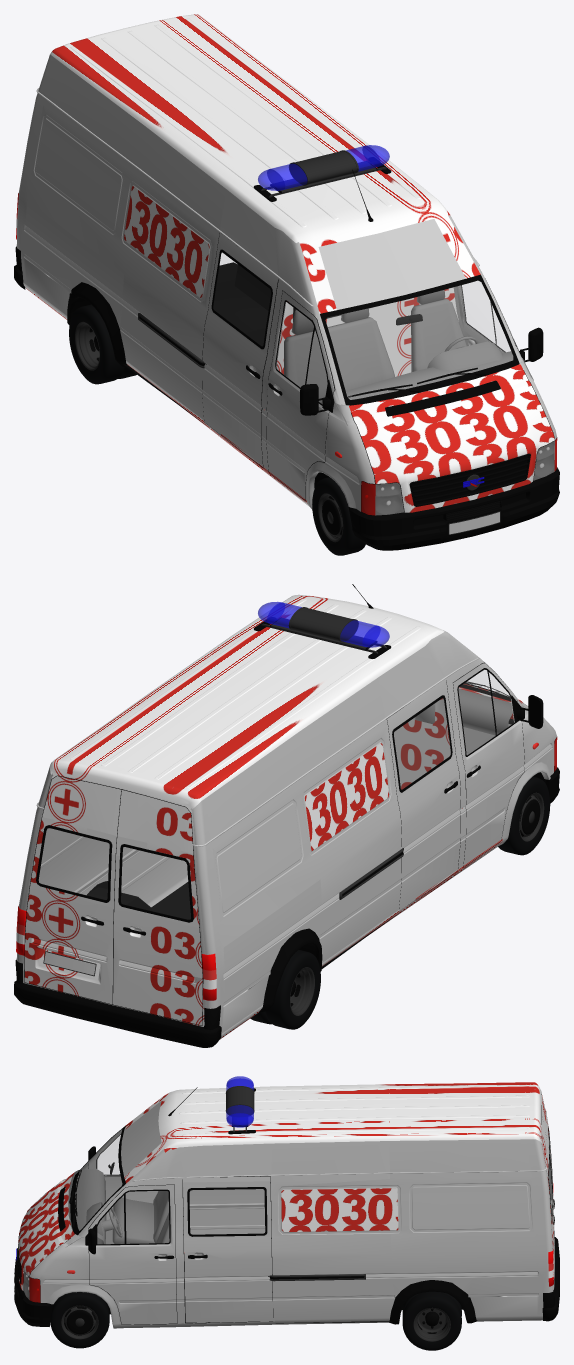
Rendered from Ambulance.FBX.
3 renders of one model, top to bottom at view 1: azimuth 30°, elevation 25°; view 2: azimuth 150°, elevation 25°; view 3: azimuth 270°, elevation 25°, orthographic. The views are drawn at different scales.
Visible parts, largest first — view 1: Group02, body, glass, plastic, interior, black, tyre, glassblk, chrome, headlght, Ellipse01, wheel (+1 smaller); view 2: Group02, body, glass, plastic, Object03.Object10, tyre, black, interior, Ellipse01, wheel, Ellipse04, chrome (+2 smaller); view 3: Group02, body, plastic, glass, interior, tyre, black, wheel, Object04.Object09, chrome, Ellipse01, glassblk (+1 smaller).
Boxes of the visible parts, x1,y1,x2,y2 form: Group02: (16,54,556,534); body: (23,14,480,506); glass: (276,281,512,402); plastic: (14,169,559,550); interior: (284,290,533,425); black: (73,233,556,537); tyre: (69,304,365,555); glassblk: (320,274,519,405); chrome: (138,313,556,534); headlght: (375,441,554,515); Ellipse01: (267,145,380,189); wheel: (75,321,343,542); Group02: (16,630,556,1033); body: (24,594,552,1039); glass: (39,670,513,918); plastic: (14,584,559,1047); Object03.Object10: (20,773,190,970); tyre: (250,776,550,1029); black: (24,662,556,1025); interior: (393,688,527,755); Ellipse01: (267,602,380,646); wheel: (290,792,544,1015); Ellipse04: (290,607,351,640); chrome: (43,738,556,976); Group02: (14,1099,553,1328); body: (57,1082,554,1289); plastic: (14,1087,559,1334); glass: (76,1130,551,1243); interior: (67,1168,169,1246); tyre: (50,1291,461,1350); black: (23,1094,541,1335); wheel: (61,1305,450,1341); Object04.Object09: (73,1091,552,1251); chrome: (14,1249,365,1326); Ellipse01: (226,1078,253,1124); glassblk: (70,1125,125,1235).
Bounding box in the file's own units: 59.98 × 71.55 × 157.
